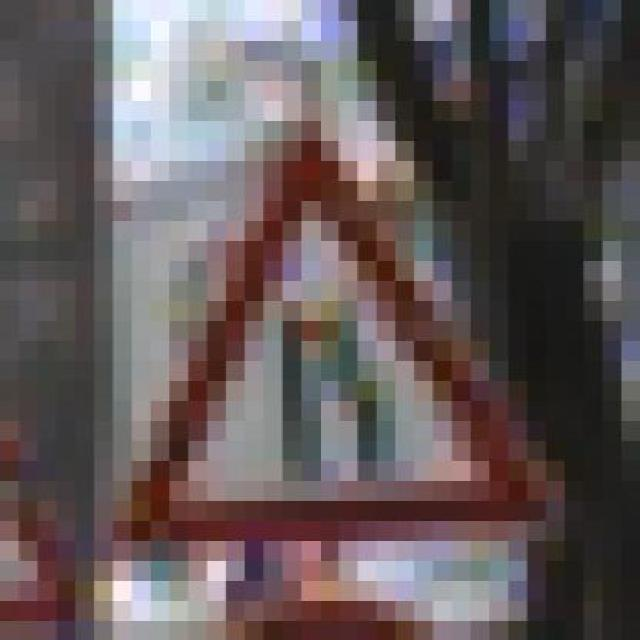-Road narrows on right: (93, 100, 564, 560)
